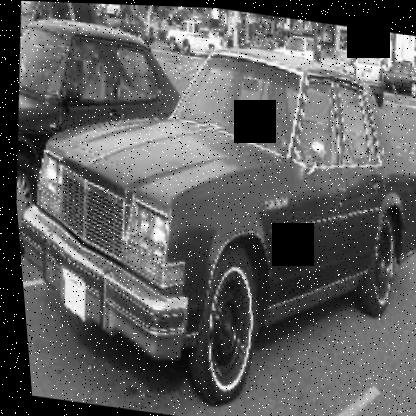not_emergency: (6, 15, 415, 415)
